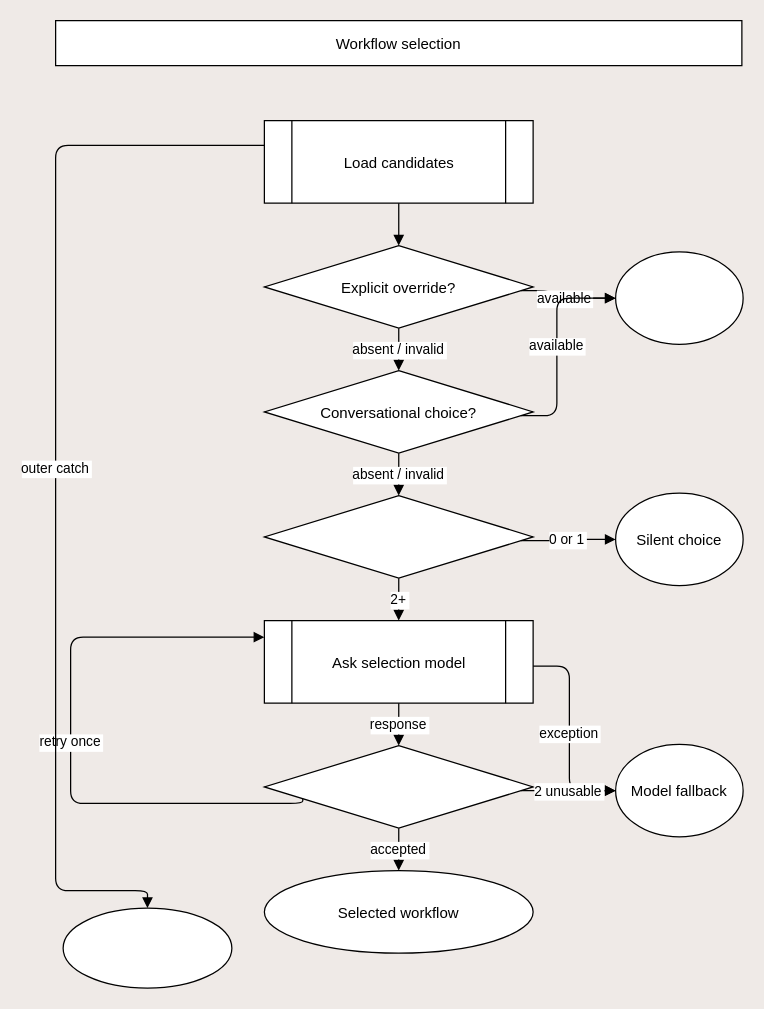
Some shapes in this 764 by 1009 pixel diagram are drawn without their labels. Here are the shapes that lost their labels. From the top down, the centre of each, then its label:
[678,297]: Explicit choice
[398,536]: Candidate count
[398,786]: Usable candidate?
[147,947]: Outer fallback
